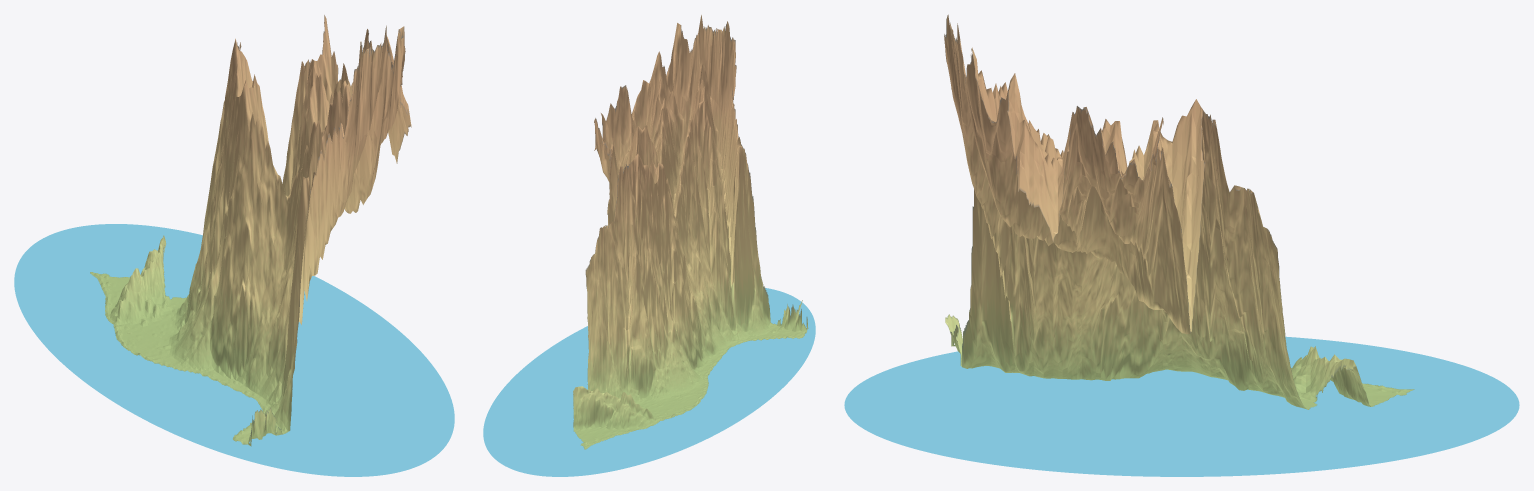
The model's file is LIE-terrain.glb.
3 views of the same model, side by side, from view 1: azimuth 30°, elevation 25°; view 2: azimuth 150°, elevation 25°; view 3: azimuth 270°, elevation 25° (orthographic). The views are drawn at different scales.
Visible parts, largest first — view 1: Relevo com hidrografia; view 2: Relevo com hidrografia; view 3: Relevo com hidrografia.
Part boxes in pixels (bbox=[...]): Relevo com hidrografia: bbox=[14, 15, 454, 476]; Relevo com hidrografia: bbox=[483, 15, 815, 476]; Relevo com hidrografia: bbox=[844, 14, 1519, 476].
Size of the model in its own units: 1.16 by 1.51 by 2.3.
2 materials, 1 textured.
